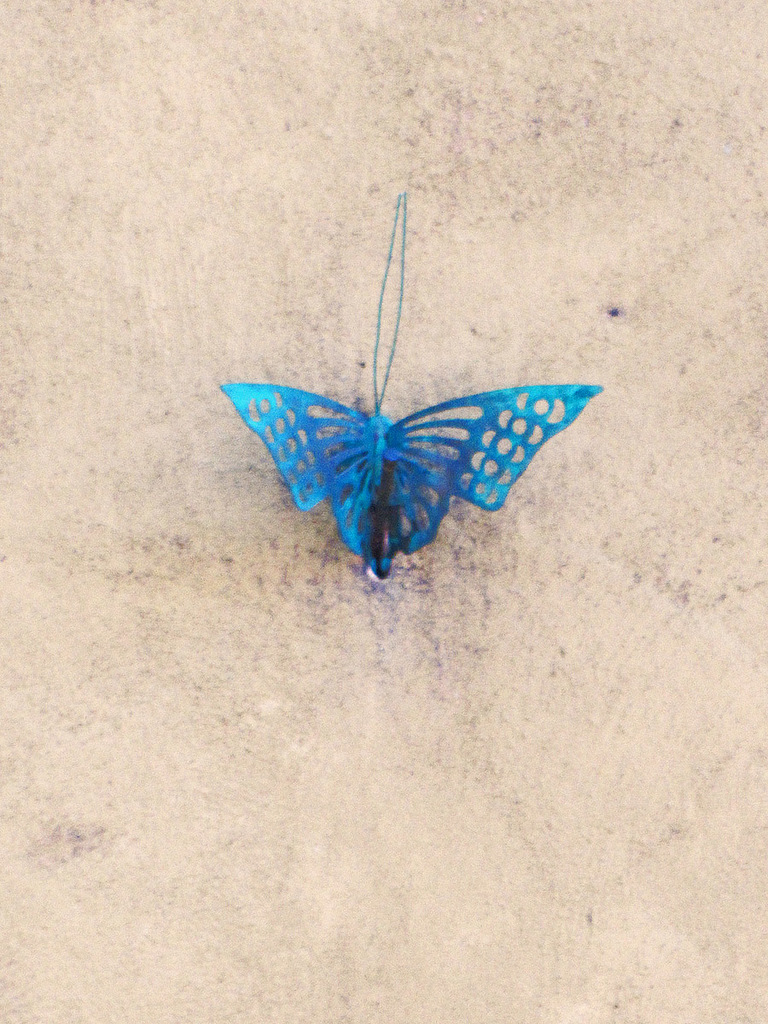Butterfly: (216, 181, 611, 580)
